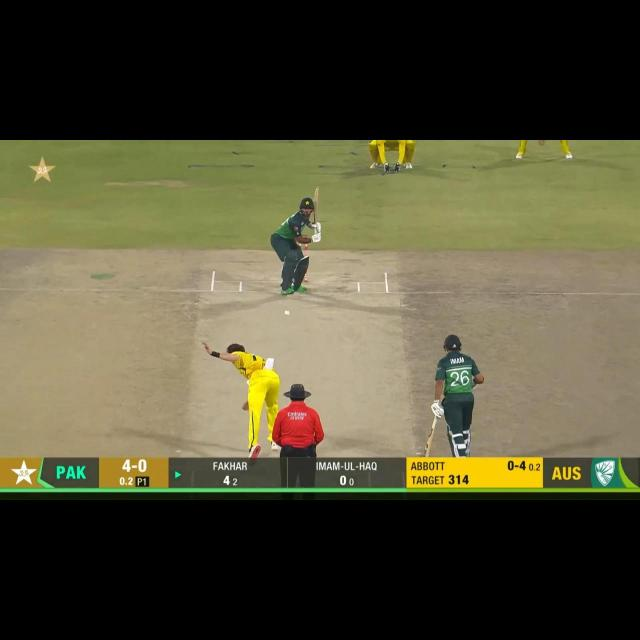bat: (421, 415, 438, 458), (312, 186, 324, 224)
toe: (423, 448, 430, 459), (312, 185, 322, 192)
